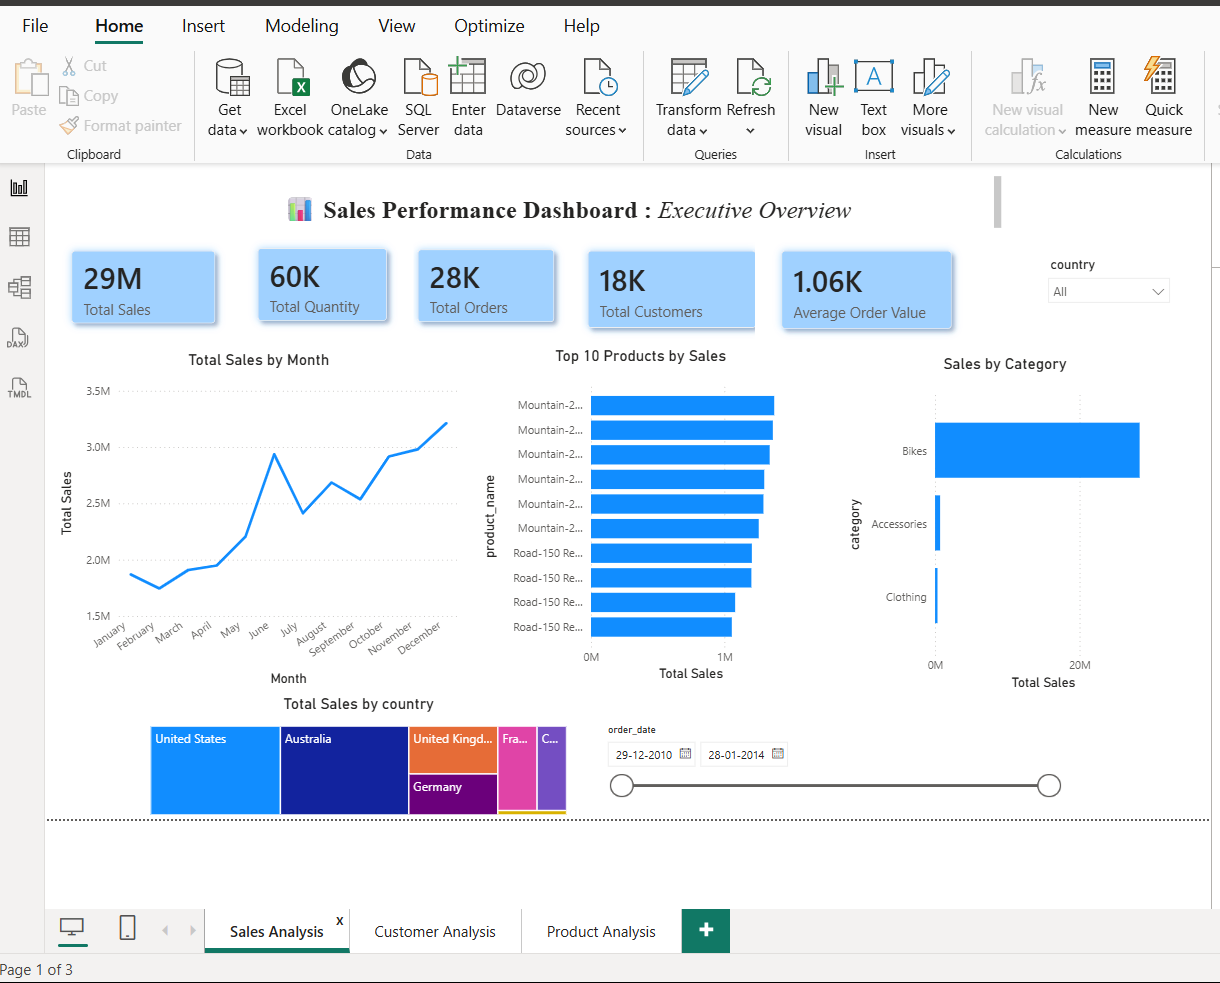

The dashboard page shown, as its layout file describes it:
{"tool":"powerbi","page":{"name":"Sales Analysis","canvas":[1280,720],"ordinal":0},"visuals":[{"type":"cardVisual","fields":{"Data":["Measure Table.Total Customers"]},"box":[566.7,67.2,243.2,143.2],"z":0},{"type":"cardVisual","fields":{"Data":["Measure Table.Average Order Value"]},"box":[779.4,67.2,245.6,144.1],"z":1000},{"type":"cardVisual","fields":{"Data":["Measure Table.Total Orders"]},"box":[380.1,65.9,208.6,138.3],"z":2000},{"type":"cardVisual","fields":{"Data":["Measure Table.Total Quantity"]},"box":[204.5,64.5,200,138.3],"z":3000},{"type":"lineChart","fields":{"Y":["Measure Table.Total Sales"],"Category":["gold fact_sales.order_date.Variation.Date Hierarchy.Month"]},"box":[11,205.8,447.3,373.2],"z":4000},{"type":"clusteredBarChart","title":"Sales by Category","fields":{"Category":["gold dim_products.category"],"Y":["Measure Table.Total Sales"]},"box":[875.5,209.9,356.8,373.2],"z":5000},{"type":"clusteredBarChart","title":"Top 10 Products by Sales","fields":{"Category":["gold dim_products.product_name"],"Y":["Measure Table.Total Sales"]},"box":[474.8,201.7,358.5,372.3],"z":6000},{"type":"slicer","fields":{"Values":["gold dim_customers.country"]},"box":[1090.9,97.4,153.7,71.4],"z":7000},{"type":"treemap","fields":{"Values":["Measure Table.Total Sales"],"Group":["gold dim_customers.country"]},"box":[111.1,583.2,466.6,137.2],"z":8000},{"type":"cardVisual","fields":{"Data":["Measure Table.Total Sales"]},"box":[0,67.2,216.8,138.6],"z":9000},{"type":"textbox","box":[100,9.9,954.3,72.8],"z":10000},{"type":"slicer","fields":{"Values":["gold fact_sales.order_date"]},"box":[605.1,610.6,518.7,109.8],"z":11000}]}

Visuals, with their boxes on the page's 1280x720 design canvas (x1, y1, x2, y2). These are canvas units, not pixel positions in the 1220x983 screenshot, which may show the page scaled, cropped or inside an application window:
cardVisual - Measure Table.Total Customers: (left=567, top=67, right=810, bottom=210)
cardVisual - Measure Table.Average Order Value: (left=779, top=67, right=1025, bottom=211)
cardVisual - Measure Table.Total Orders: (left=380, top=66, right=589, bottom=204)
cardVisual - Measure Table.Total Quantity: (left=204, top=64, right=404, bottom=203)
lineChart - Measure Table.Total Sales x gold fact_sales.order_date.Variation.Date Hierarchy.Month: (left=11, top=206, right=458, bottom=579)
"Sales by Category" clusteredBarChart: (left=876, top=210, right=1232, bottom=583)
"Top 10 Products by Sales" clusteredBarChart: (left=475, top=202, right=833, bottom=574)
slicer - gold dim_customers.country: (left=1091, top=97, right=1245, bottom=169)
treemap - Measure Table.Total Sales x gold dim_customers.country: (left=111, top=583, right=578, bottom=720)
cardVisual - Measure Table.Total Sales: (left=0, top=67, right=217, bottom=206)
textbox: (left=100, top=10, right=1054, bottom=83)
slicer - gold fact_sales.order_date: (left=605, top=611, right=1124, bottom=720)
